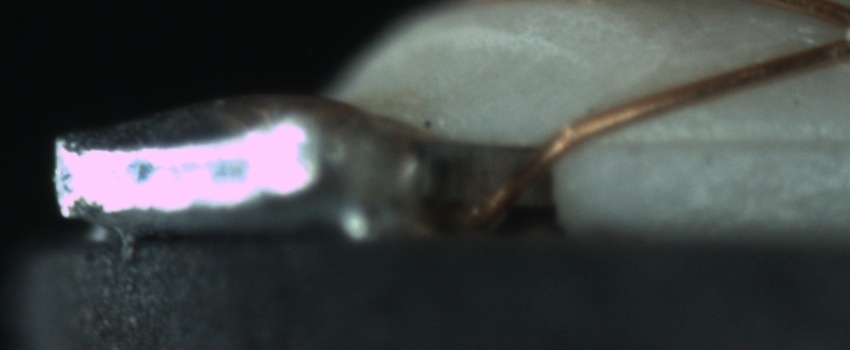DL: (609, 107, 847, 174)
